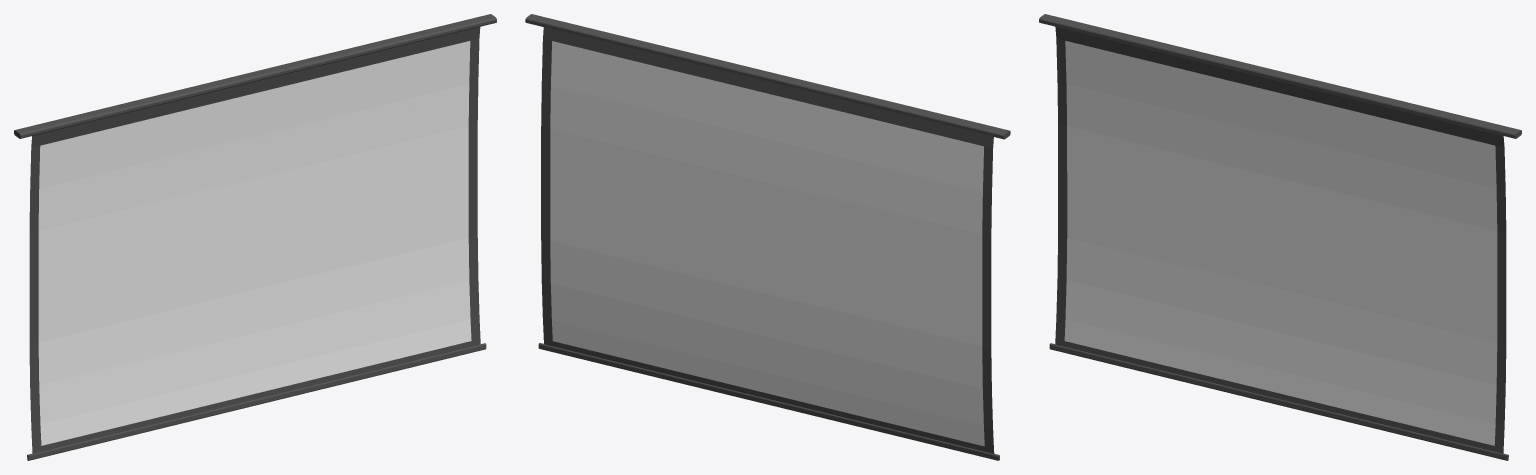
Rendered from board.gltf.
3 renders of one model, left to right at view 1: azimuth 30°, elevation 25°; view 2: azimuth 150°, elevation 25°; view 3: azimuth 330°, elevation 25°, orthographic.
Parts seen in each view (by area): view 1: WallBoard.002; view 2: WallBoard.002; view 3: WallBoard.002.
Boxes of the visible parts, x1,y1,x2,y2 form: WallBoard.002: (14, 14, 496, 460); WallBoard.002: (525, 14, 1010, 460); WallBoard.002: (1039, 14, 1521, 460).
Bounding box in the file's own units: 2.5 × 1.66 × 0.0603.
1 material, 1 textured.
